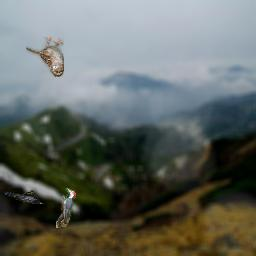Crow: (4, 190, 44, 204)
Sparrow: (26, 37, 64, 77)
Woodpecker: (56, 188, 76, 228)
